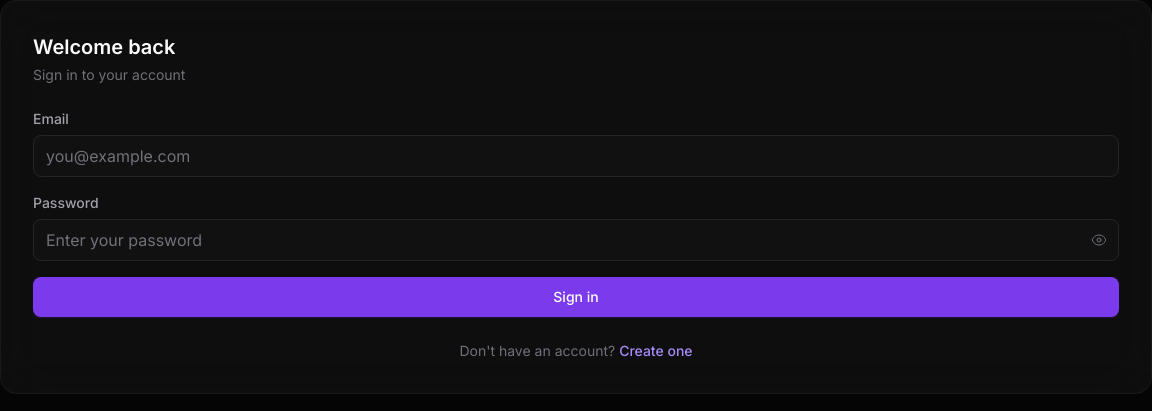
it: LoginPage › disables submit button while loading
Step 1. Type "test@example.com" into the field with placeholder "you@example.com" → (576, 156), box [33, 135, 1119, 177]
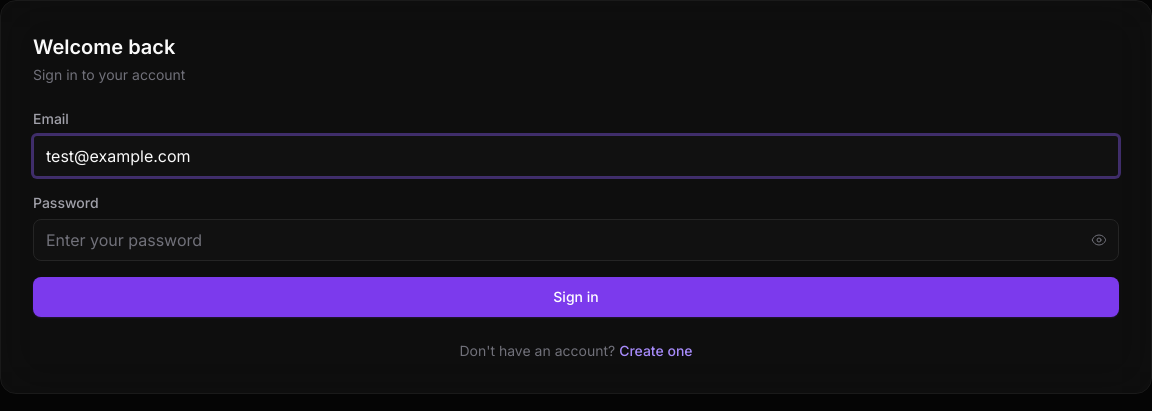
Step 2. Type "password123" into the password field with placeholder "Enter your password" → (576, 240), box [33, 219, 1119, 261]
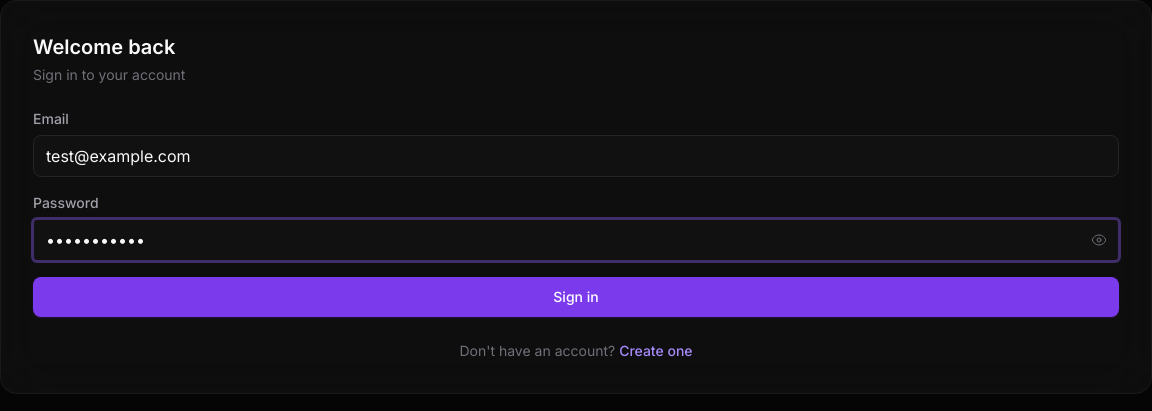
Step 3. Click the button "Sign in" → (576, 297), box [33, 277, 1119, 317]
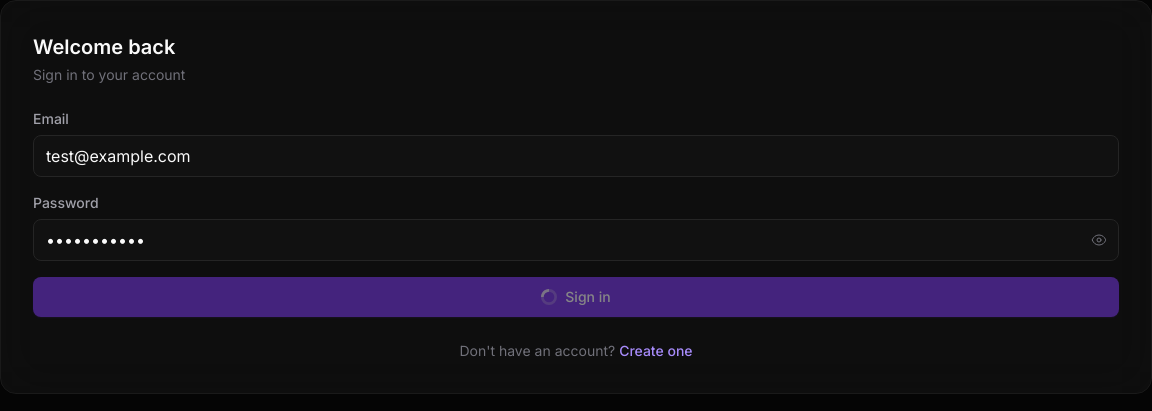
Expected: the button "Sign in" is disabled, [33, 277, 1119, 317]
